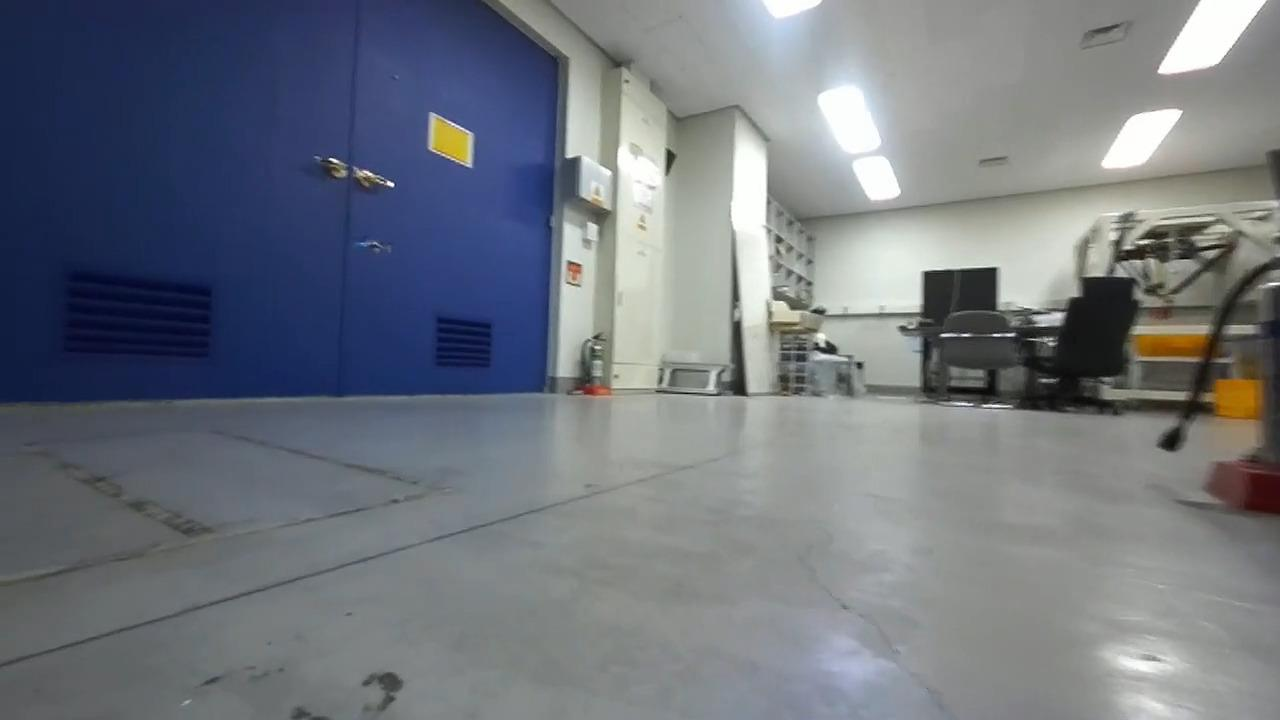crazyflie: (349, 234, 393, 258)
